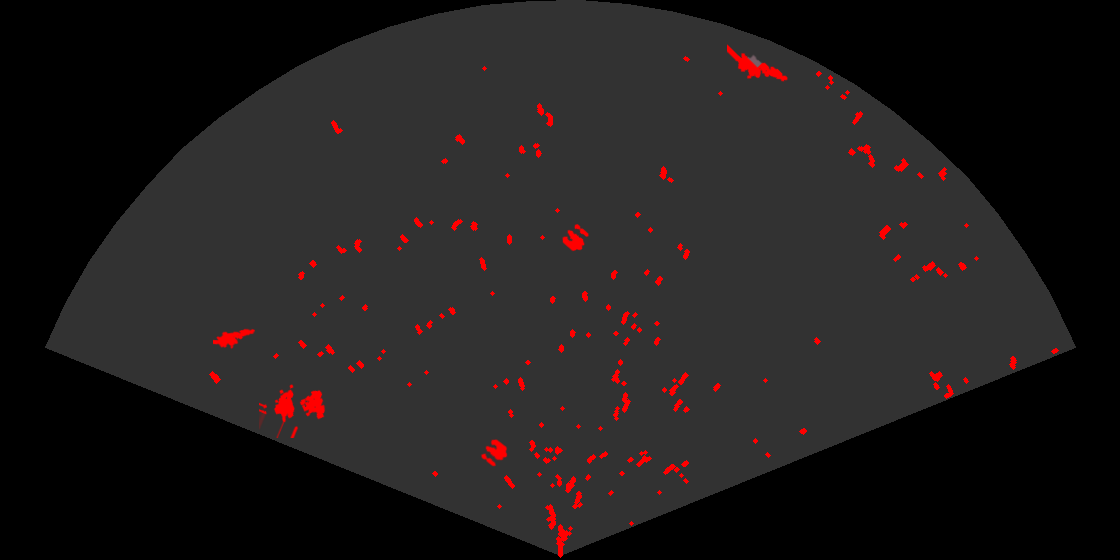ball: (479, 438, 509, 468), (561, 222, 590, 253)
cage: (259, 383, 327, 438)
frogman: (727, 43, 789, 83), (213, 327, 255, 351)
